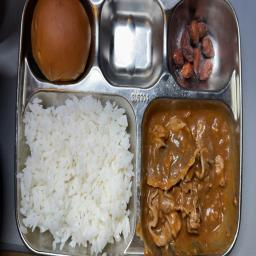100_beef: (142, 100, 238, 252)
100_bread: (27, 0, 93, 82)
100_rice: (21, 88, 136, 253)
50_nuts: (171, 7, 233, 86)
empty: (102, 1, 162, 84)
